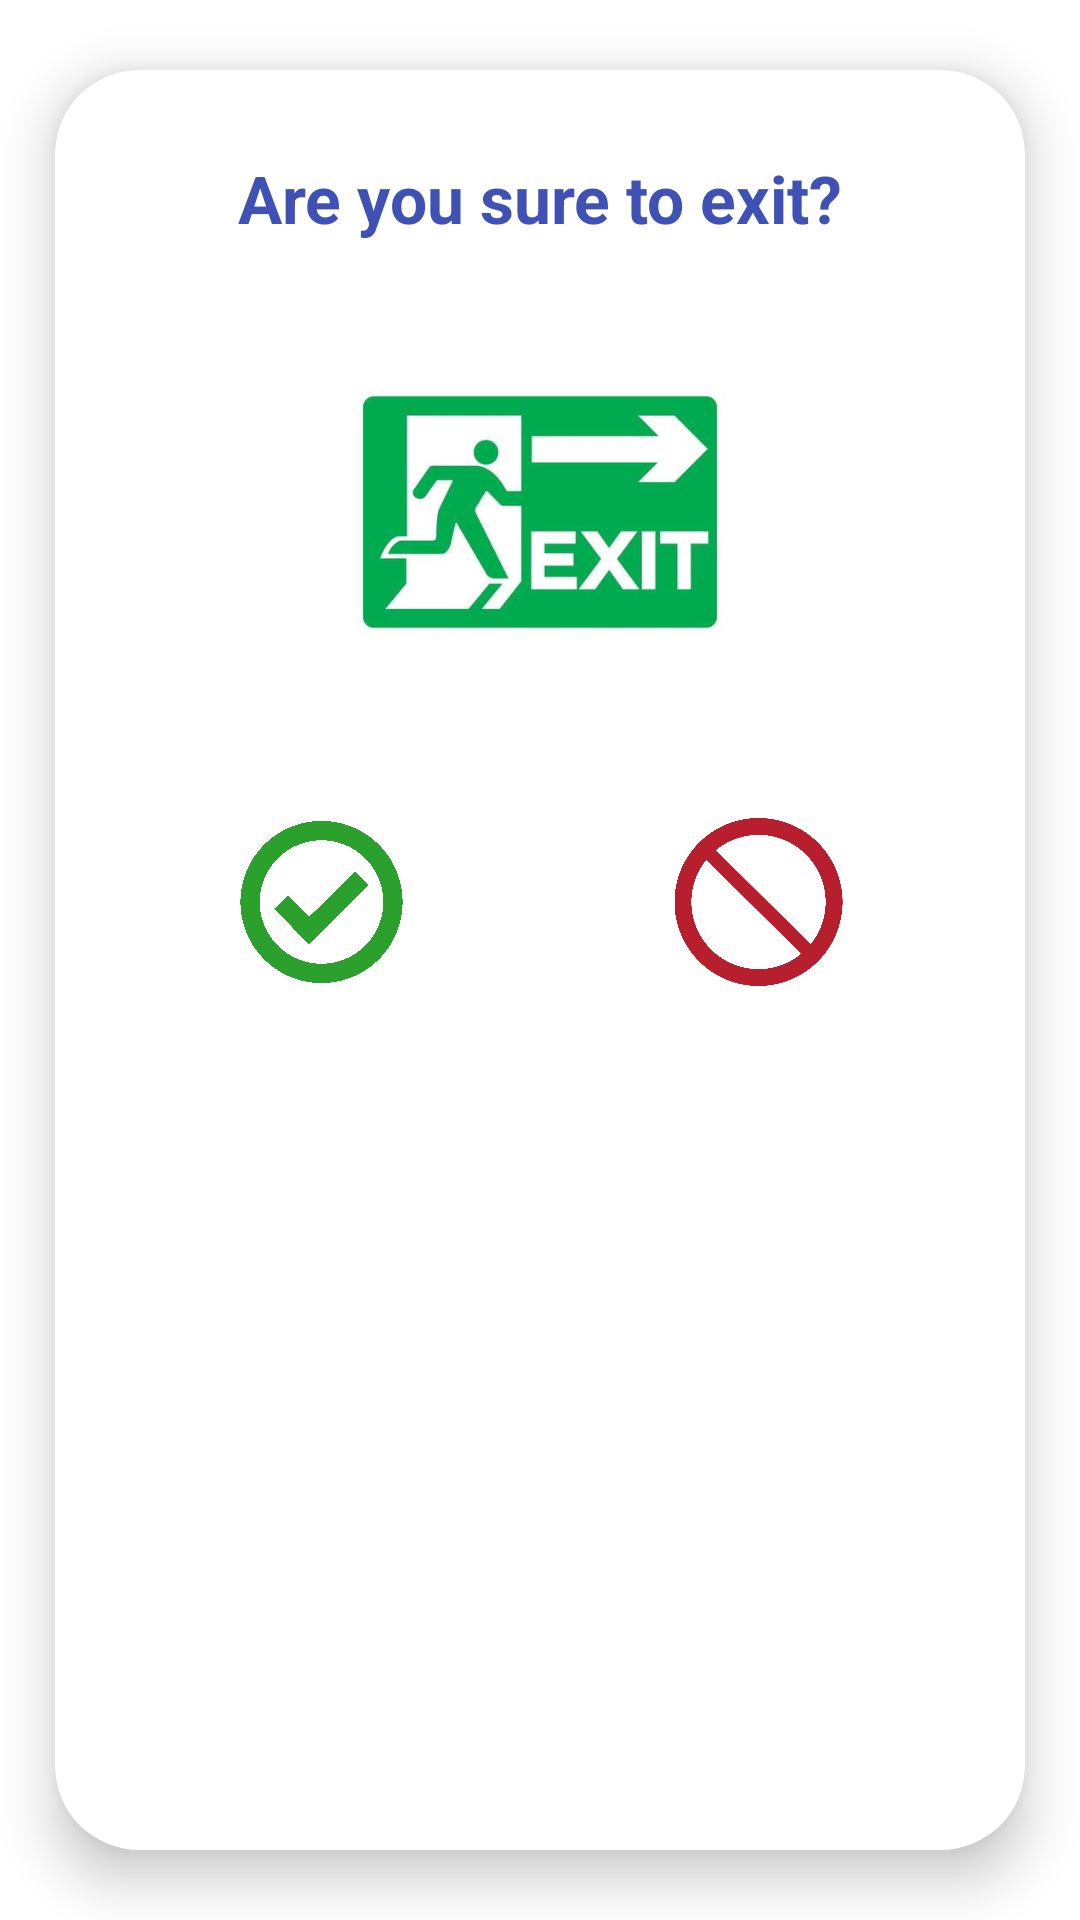

Named icons in this screenshot (1080x1920) and their bounding boxes, box=[x1, y1, x2, y2]:
yes: box=[240, 821, 403, 983]
